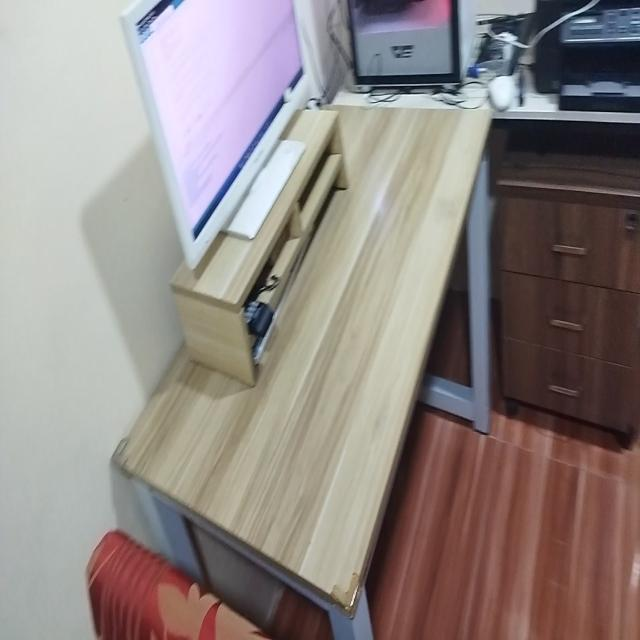table: (122, 80, 486, 640)
